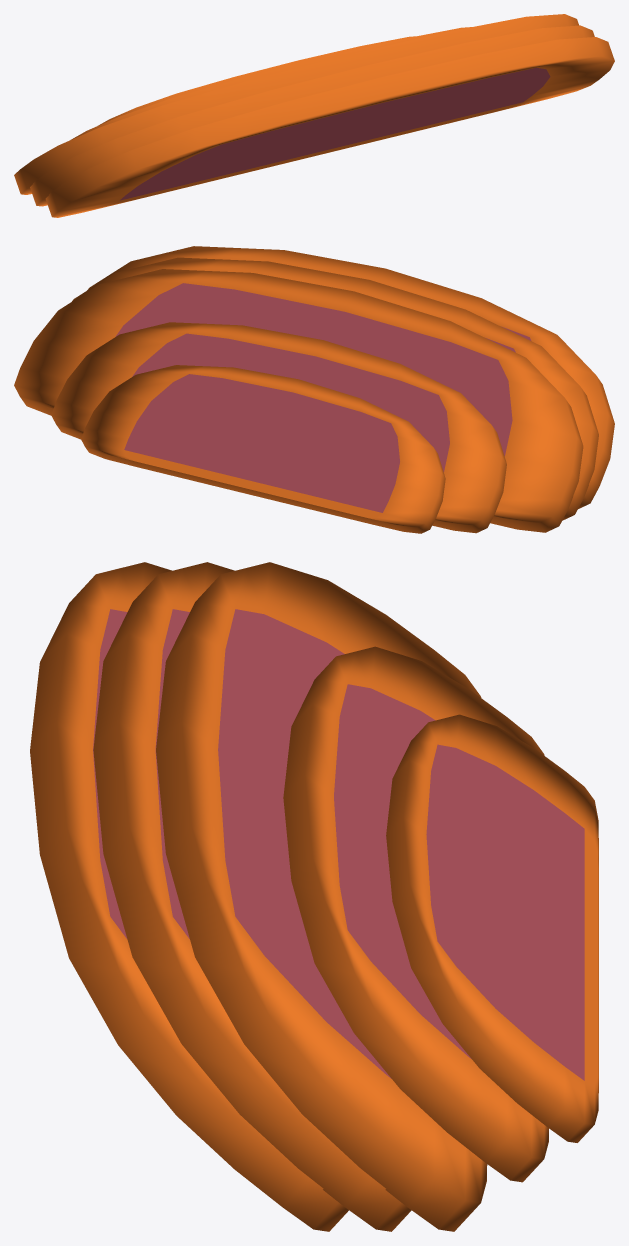
The model's file is ChoppedSteak.fbx.
The picture shows the model from 3 angles, top to bottom: view 1: azimuth 30°, elevation 25°; view 2: azimuth 150°, elevation 25°; view 3: azimuth 270°, elevation 25°; orthographic projection. The views are drawn at different scales.
Visible parts, largest first — view 1: Plane.019, Plane.016, Plane.015, Plane.017, Plane.018; view 2: Plane.015, Plane.018, Plane.017, Plane.019, Plane.016; view 3: Plane.015, Plane.018, Plane.017, Plane.019, Plane.016.
Boxes of the visible parts, x1,y1,x2,y2 form: Plane.019: (45, 37, 614, 217); Plane.016: (30, 25, 594, 206); Plane.015: (14, 14, 579, 194); Plane.017: (71, 27, 471, 139); Plane.018: (98, 36, 415, 125); Plane.015: (14, 269, 583, 532); Plane.018: (81, 365, 445, 533); Plane.017: (51, 322, 506, 533); Plane.019: (87, 246, 614, 508); Plane.016: (72, 257, 598, 520); Plane.015: (156, 562, 487, 1231); Plane.018: (386, 714, 598, 1142); Plane.017: (283, 646, 548, 1182); Plane.019: (30, 562, 348, 1231); Plane.016: (93, 562, 411, 1231).
Size of the model in its own units: 60 by 13.89 by 27.31.
